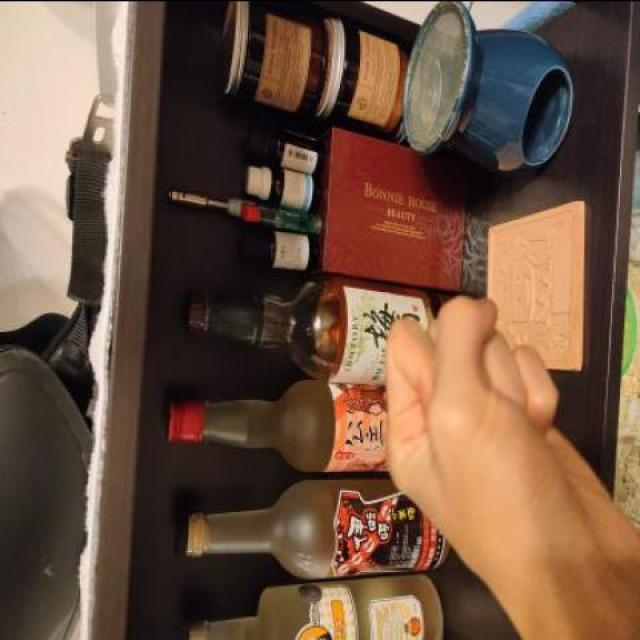fist: (369, 285, 640, 587)
